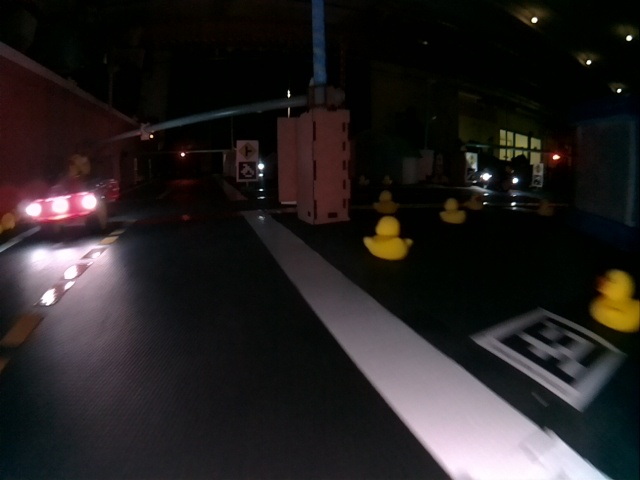Duckie: (592, 271, 638, 329), (364, 219, 407, 258), (440, 197, 463, 224), (377, 195, 397, 213)
Intersection sign: (238, 142, 256, 160)
QR code: (477, 310, 621, 407), (239, 163, 256, 181)
Traffic light: (141, 129, 154, 140)
